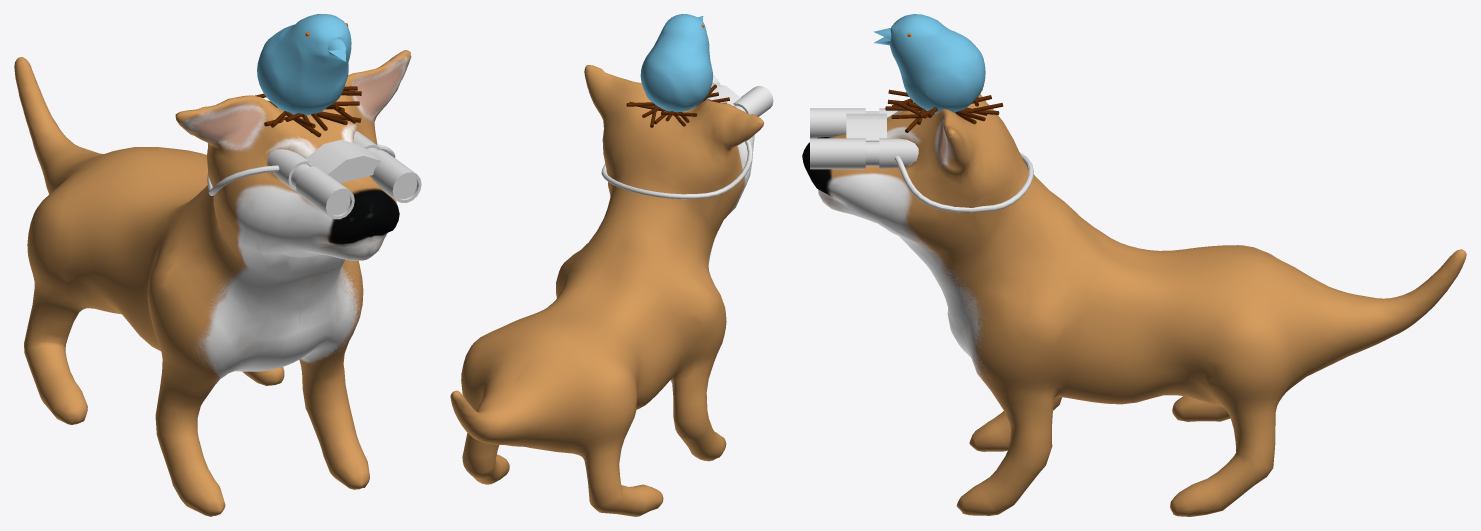
File: Bird.fbx
3 renders of one model, left to right at view 1: azimuth 30°, elevation 25°; view 2: azimuth 150°, elevation 25°; view 3: azimuth 270°, elevation 25°, orthographic. The views are drawn at different scales.
Parts seen in each view (by area): view 1: Dog_low, Icosphere.001, Binoculars; view 2: Dog_low, Icosphere.001, Binoculars; view 3: Dog_low, Icosphere.001, Binoculars.
Part boxes in pixels (box(x1,y1,x2,y2)): Dog_low: box(14, 50, 411, 516); Icosphere.001: box(249, 14, 361, 137); Binoculars: box(207, 131, 421, 219); Dog_low: box(450, 65, 763, 516); Icosphere.001: box(626, 14, 729, 127); Binoculars: box(601, 75, 773, 199); Dog_low: box(802, 94, 1466, 516); Icosphere.001: box(873, 14, 1003, 132); Binoculars: box(810, 108, 1033, 212).
Bounding box in the file's own units: 248 × 521 × 670.
